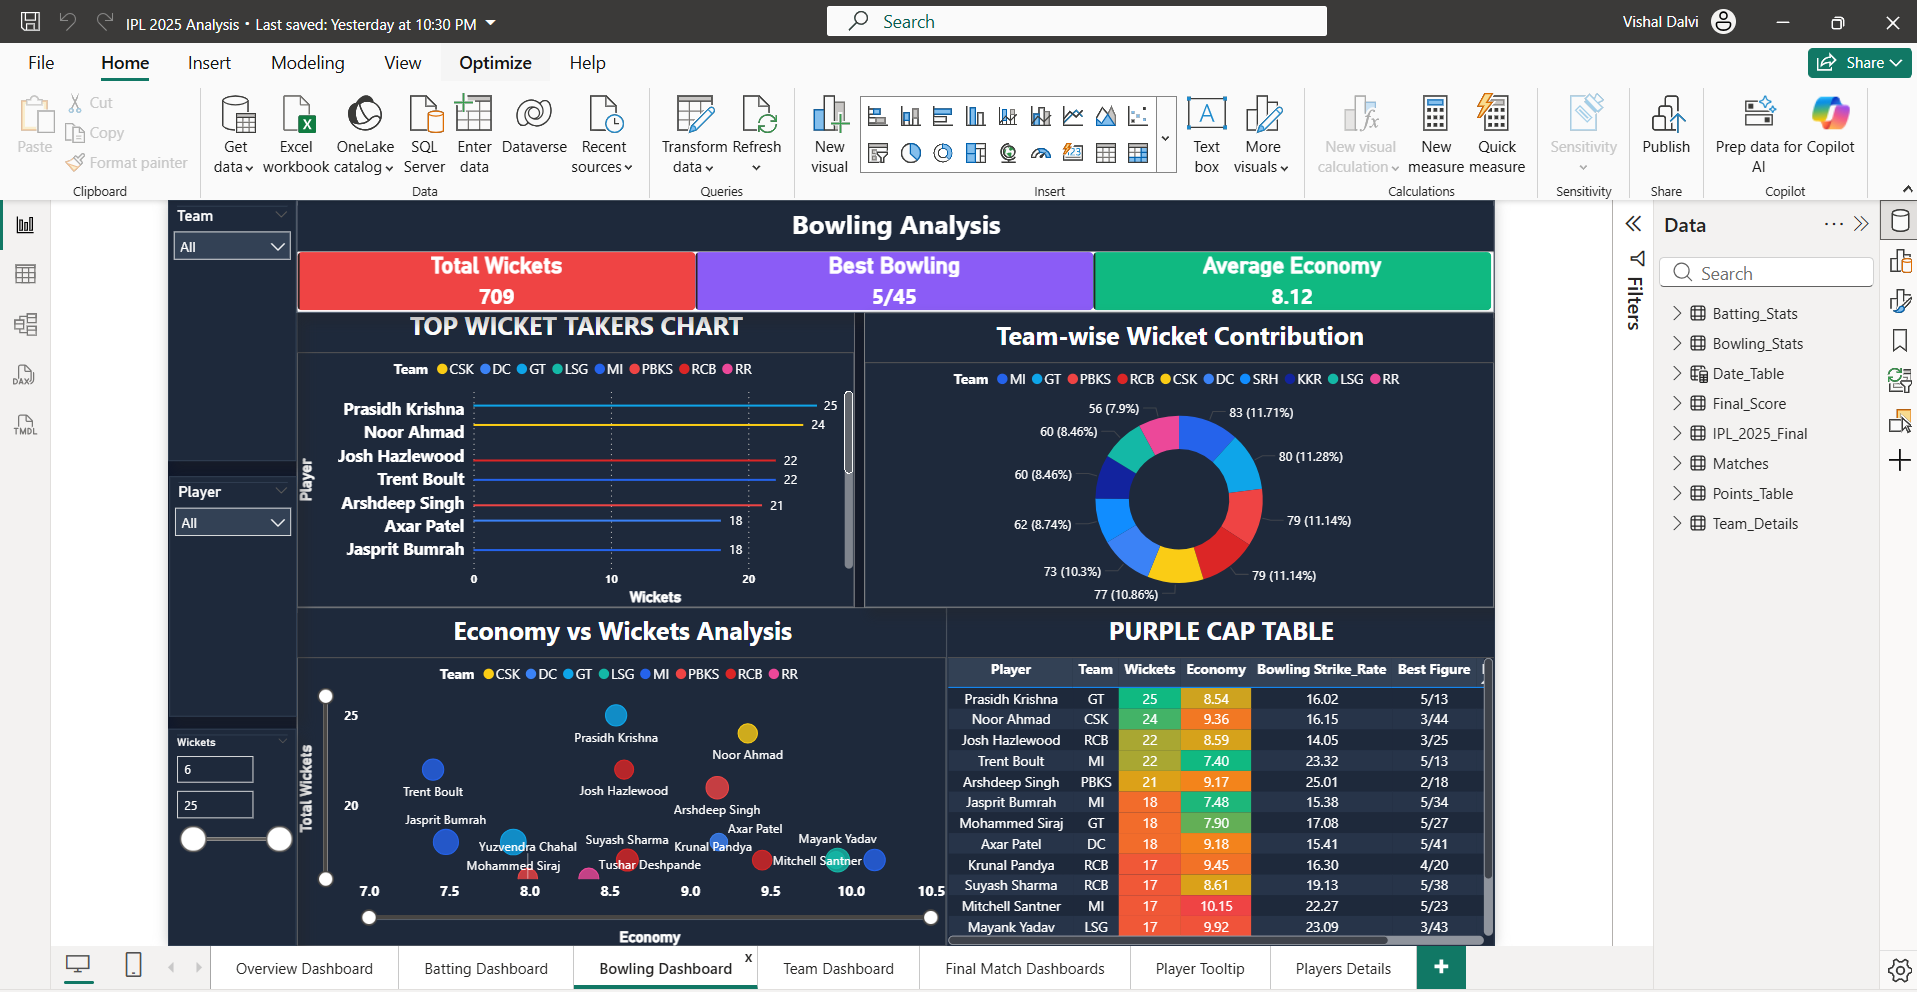

Layout of this report page (visuals, bound fields, positions):
{"tool":"powerbi","page":{"name":"Bowling Dashboard","canvas":[1280,720],"ordinal":2},"visuals":[{"type":"clusteredBarChart","title":"TOP WICKET TAKERS CHART","fields":{"Category":["Bowling_Stats.Player"],"Y":["Sum(Bowling_Stats.Wickets)"],"Series":["Bowling_Stats.Team"]},"box":[124.3,98.9,538.1,294.4],"z":0},{"type":"scatterChart","title":"Economy vs Wickets Analysis","fields":{"X":["Avg(Bowling_Stats.Economy)"],"Y":["Sum(Bowling_Stats.Wickets)"],"Series":["Bowling_Stats.Team"],"Category":["Bowling_Stats.Player"],"Size":["Sum(Bowling_Stats.Overs)"]},"box":[124.3,393.3,627.3,326.9],"z":1000},{"type":"tableEx","title":"PURPLE CAP TABLE","fields":{"Values":["Bowling_Stats.Player","Bowling_Stats.Team","Sum(Bowling_Stats.Wickets)","Avg(Bowling_Stats.Economy)","Bowling_Stats.Strike_Rate","Batting_Stats.Best Bowling","Min(Bowling_Stats.Purple_Cap_Rank)"]},"box":[751.6,393.3,528.4,326.9],"z":2000},{"type":"slicer","fields":{"Values":["Bowling_Stats.Team"]},"box":[0,0,124.3,252.1],"z":3000},{"type":"cardVisual","title":"Bowling Analysis","fields":{"Data":["Matches.Total Wickets","Batting_Stats.Best Bowling","Matches.Average Economy"]},"box":[124.3,0,1155.8,108.6],"z":4000},{"type":"slicer","fields":{"Values":["Bowling_Stats.Player"]},"box":[1.2,266.6,123.1,231.6],"z":5000},{"type":"slicer","fields":{"Values":["Bowling_Stats.Wickets"]},"box":[0,510.3,124.3,209.9],"z":6000},{"type":"donutChart","title":"Team-wise Wicket Contribution","fields":{"Category":["Bowling_Stats.Team"],"Y":["Sum(Bowling_Stats.Wickets)"]},"box":[672,108.6,608,284.7],"z":7000}]}

Visuals, with their boxes on the page's 1280x720 design canvas (x1, y1, x2, y2). These are canvas units, not pixel positions in the 1917x992 screenshot, which may show the page scaled, cropped or inside an application window:
"TOP WICKET TAKERS CHART" clusteredBarChart: (124, 99, 662, 393)
"Economy vs Wickets Analysis" scatterChart: (124, 393, 752, 720)
"PURPLE CAP TABLE" tableEx: (752, 393, 1280, 720)
slicer - Bowling_Stats.Team: (0, 0, 124, 252)
"Bowling Analysis" cardVisual: (124, 0, 1280, 109)
slicer - Bowling_Stats.Player: (1, 267, 124, 498)
slicer - Bowling_Stats.Wickets: (0, 510, 124, 720)
"Team-wise Wicket Contribution" donutChart: (672, 109, 1280, 393)
